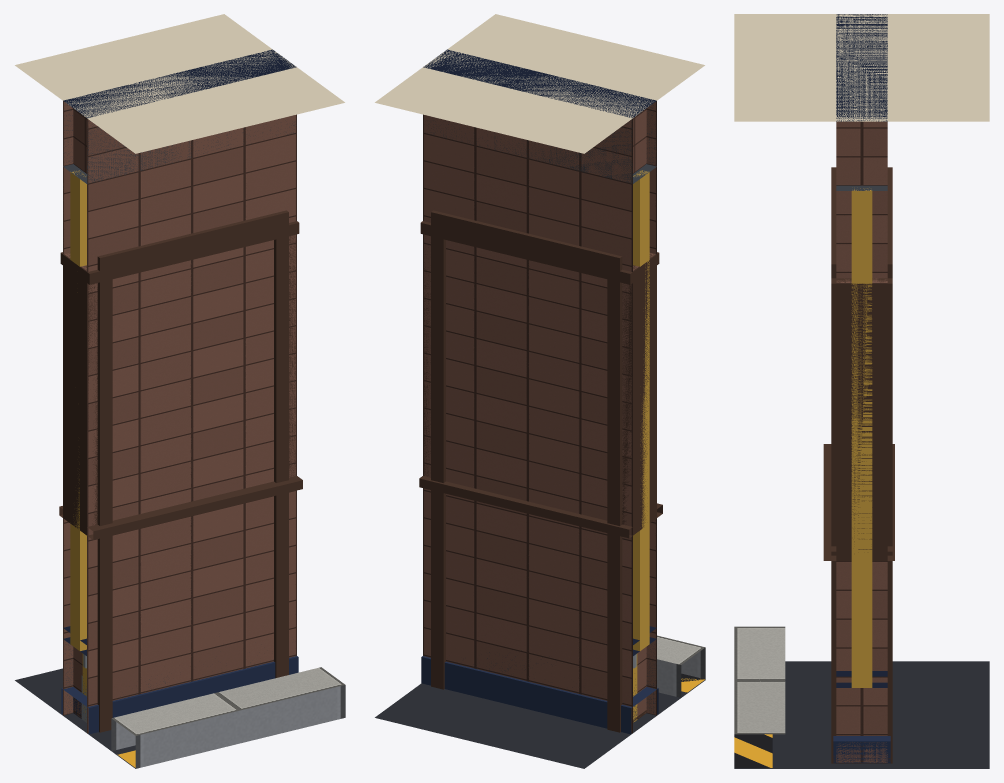
File: kit.glb
3 renders of one model, left to right at view 1: azimuth 30°, elevation 25°; view 2: azimuth 150°, elevation 25°; view 3: azimuth 270°, elevation 25°, orthographic. The views are drawn at different scales.
Visible parts, largest first — view 1: wall_full_ext_straight, doorway_full_ext, window_full_ext, wall_full_ext_arm, ceiling, curb, wall_full_ext_post, window_shop_full, floor_asphalt, doorway_low_ext, wall_low_ext_straight; view 2: wall_full_ext_straight, doorway_full_ext, wall_full_ext_arm, window_full_ext, ceiling, wall_full_ext_post, floor_asphalt, window_shop_full, curb, doorway_low_ext, wall_low_ext_arm, wall_low_ext_straight; view 3: ceiling, doorway_full_ext, floor_asphalt, window_full_ext, window_shop_full, curb, trim_restricted, wall_full_ext_arm.
Part boxes in pixels (<box>): wall_full_ext_straight: <box>61,50,297,734</box>; doorway_full_ext: <box>61,49,298,733</box>; window_full_ext: <box>59,103,302,730</box>; wall_full_ext_arm: <box>189,50,298,689</box>; ceiling: <box>15,14,344,153</box>; curb: <box>111,667,345,768</box>; wall_full_ext_post: <box>151,70,214,687</box>; window_shop_full: <box>63,105,296,724</box>; floor_asphalt: <box>15,668,135,768</box>; doorway_low_ext: <box>63,595,296,732</box>; wall_low_ext_straight: <box>63,628,293,714</box>; wall_full_ext_straight: <box>422,50,658,733</box>; doorway_full_ext: <box>421,49,658,734</box>; wall_full_ext_arm: <box>421,49,530,703</box>; window_full_ext: <box>419,102,662,732</box>; ceiling: <box>375,14,704,153</box>; wall_full_ext_post: <box>505,70,571,706</box>; floor_asphalt: <box>375,680,704,768</box>; window_shop_full: <box>424,105,656,731</box>; curb: <box>657,635,705,697</box>; doorway_low_ext: <box>423,595,656,733</box>; wall_low_ext_arm: <box>429,609,506,674</box>; wall_low_ext_straight: <box>446,628,656,732</box>; ceiling: <box>734,14,989,121</box>; doorway_full_ext: <box>831,14,892,763</box>; floor_asphalt: <box>734,661,989,768</box>; window_full_ext: <box>823,278,894,560</box>; window_shop_full: <box>836,185,887,687</box>; curb: <box>734,626,785,734</box>; trim_restricted: <box>734,734,772,767</box>; wall_full_ext_arm: <box>833,78,890,741</box>.
Size of the model in its own units: 1 by 2.8 by 1.
Materials: 21 (7 with a texture image).
